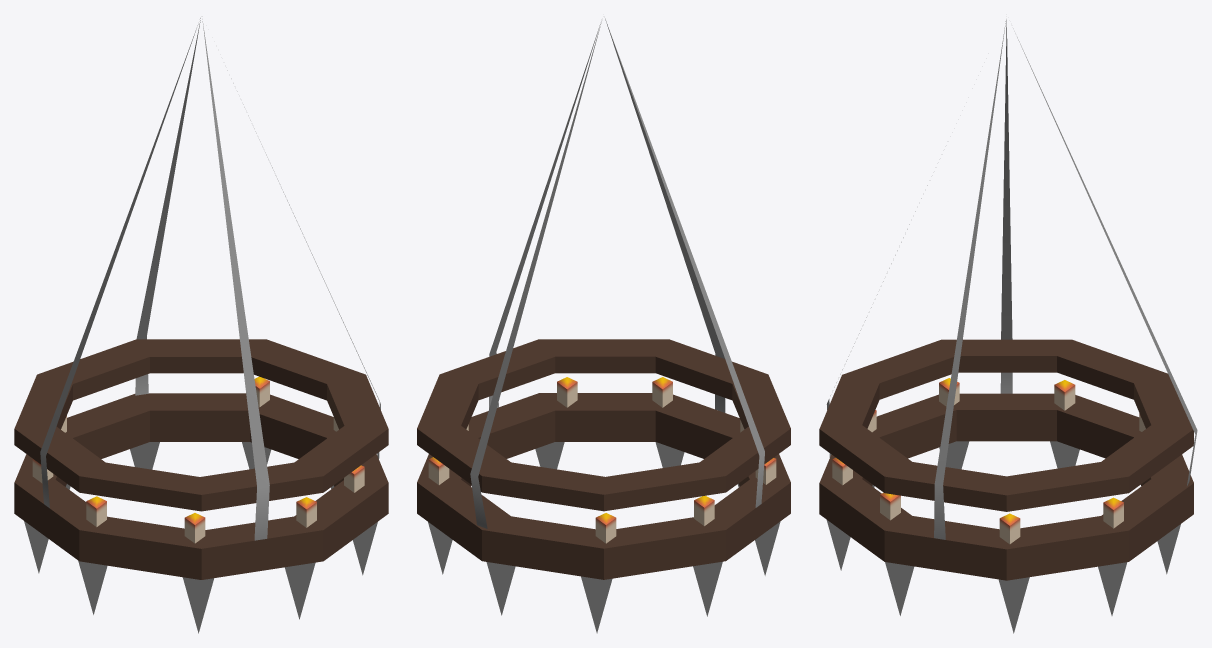
The model's file is chandeleir.fbx.
The picture shows the model from 3 angles, left to right: view 1: azimuth 30°, elevation 25°; view 2: azimuth 150°, elevation 25°; view 3: azimuth 270°, elevation 25°; orthographic projection.
Visible parts, largest first — view 1: pCone10; view 2: pCone10; view 3: pCone10.
Part boxes in pixels (<box>): pCone10: <box>14,16,388,633</box>; pCone10: <box>417,18,790,633</box>; pCone10: <box>819,19,1197,633</box>.
Size of the model in its own units: 2.66 by 4.32 by 2.69.
